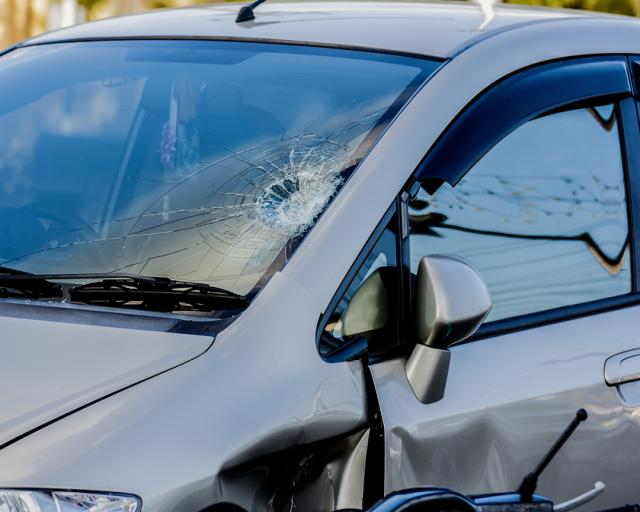dent: (217, 418, 364, 512), (391, 419, 512, 496)
glass shatter: (0, 40, 443, 297)
